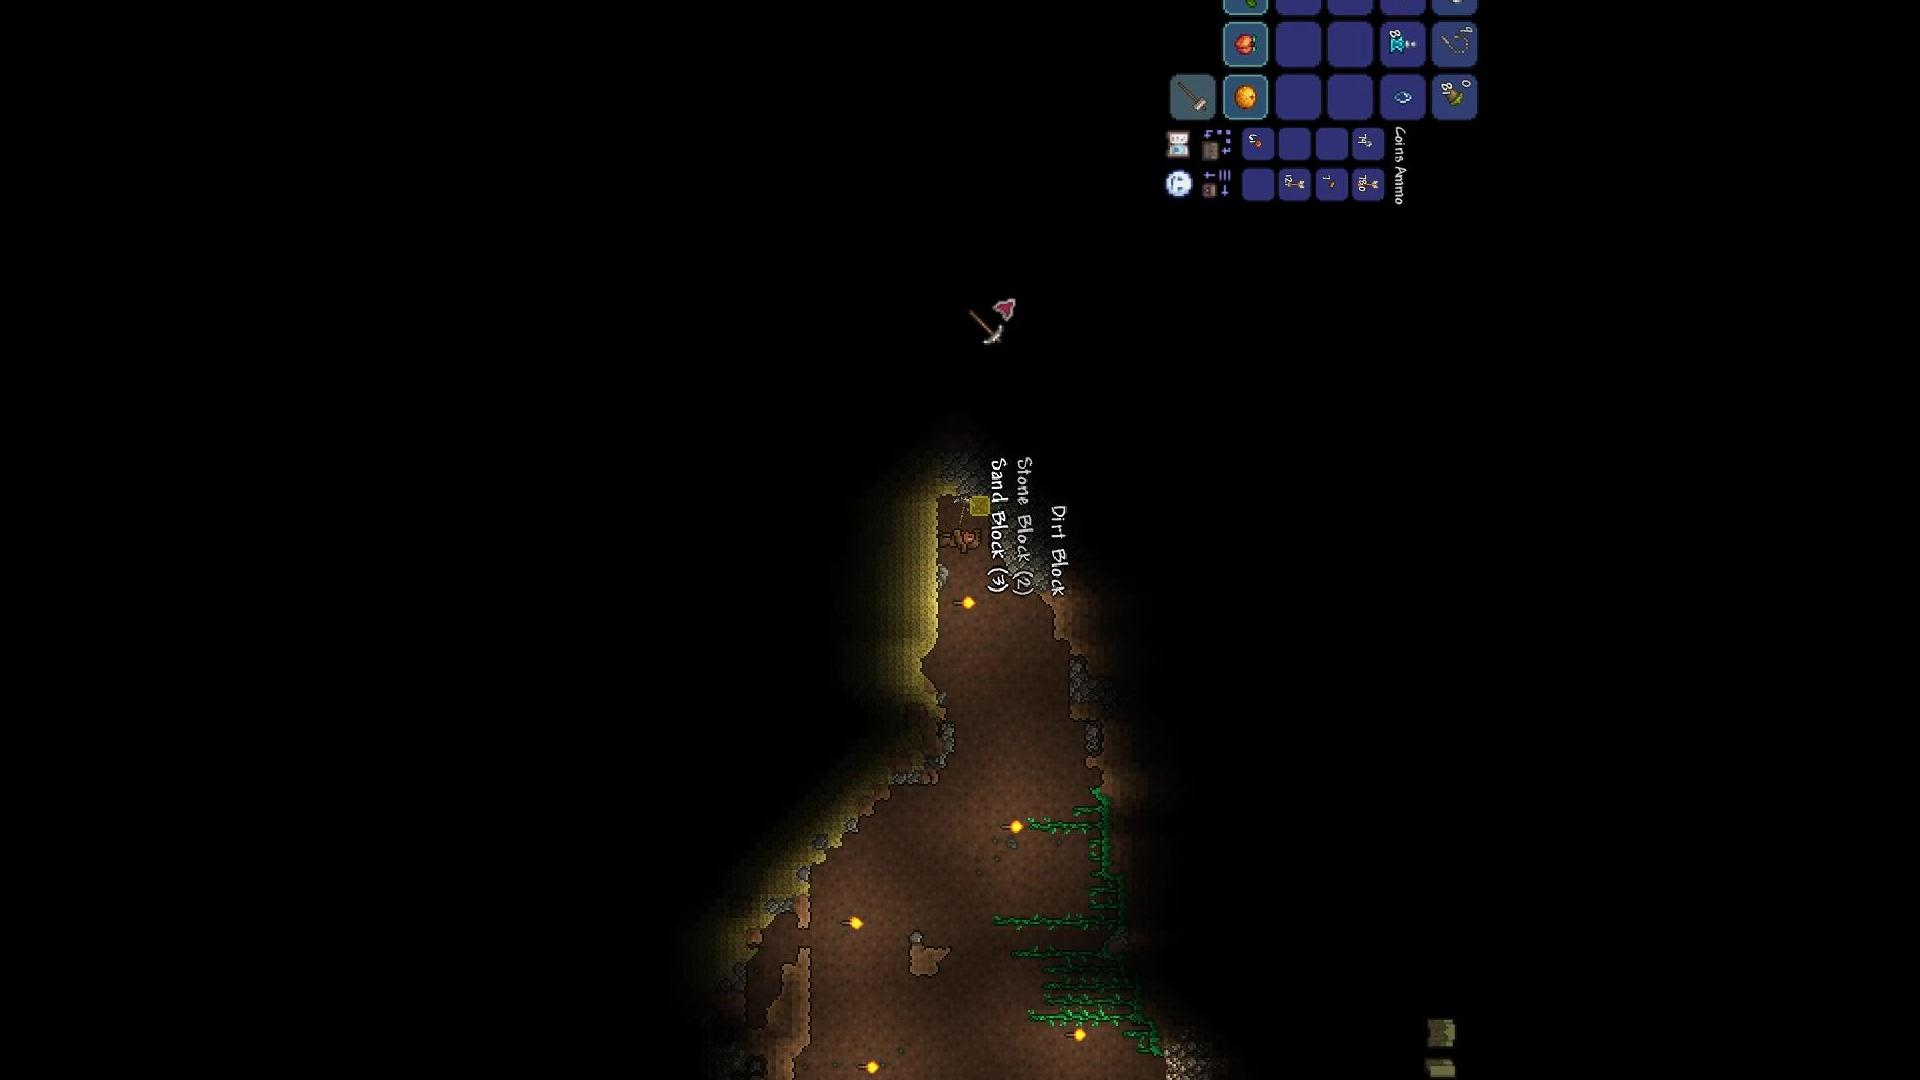recallP: (1385, 33, 1420, 57)
